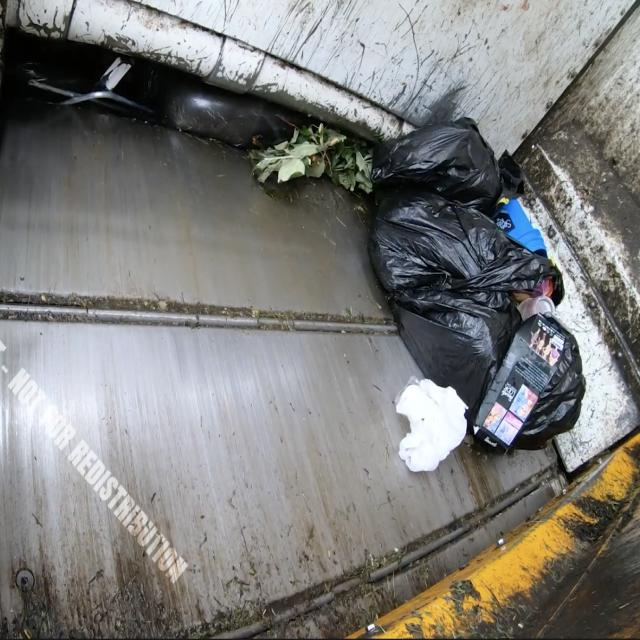bag: (363, 182, 550, 372), (360, 115, 532, 214)
paper: (348, 353, 477, 483)
yard: (246, 98, 379, 216)
